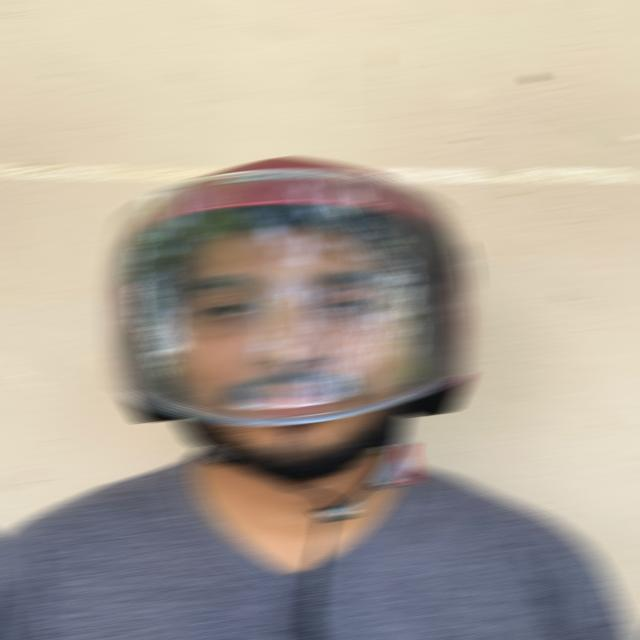With Helmet: (100, 157, 478, 422)
